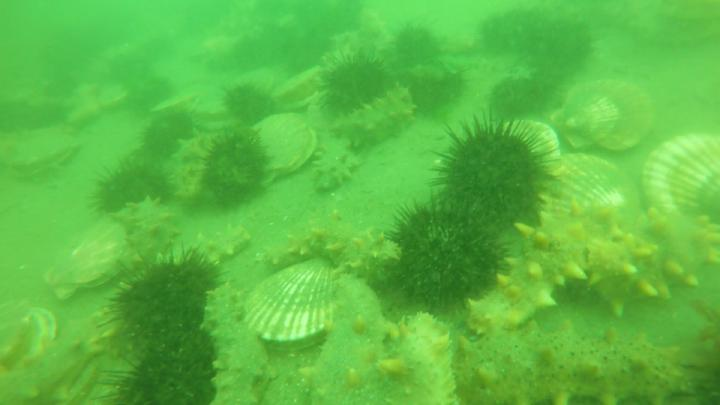echinus: (422, 111, 557, 231), (387, 195, 512, 307), (105, 241, 223, 353), (100, 325, 220, 405), (205, 128, 275, 205), (519, 13, 598, 80), (87, 159, 174, 217), (318, 55, 395, 115), (475, 5, 543, 63), (139, 104, 202, 164), (380, 20, 439, 75), (275, 28, 339, 77), (403, 65, 470, 108), (219, 80, 280, 125), (484, 74, 546, 111), (123, 75, 178, 113)
holothurian: (469, 200, 614, 337), (458, 326, 696, 405), (591, 203, 718, 312), (306, 275, 400, 405), (198, 284, 274, 405), (267, 222, 402, 277), (383, 310, 459, 405), (334, 85, 417, 150), (167, 132, 220, 209), (176, 223, 252, 274), (128, 197, 175, 269), (312, 132, 363, 196)
scallop: (559, 73, 663, 152), (249, 261, 344, 346), (643, 131, 720, 220), (45, 214, 127, 297), (534, 157, 641, 220), (251, 110, 318, 178), (1, 302, 58, 377), (1, 129, 79, 179), (509, 114, 563, 168), (272, 64, 326, 110), (147, 90, 206, 119)
